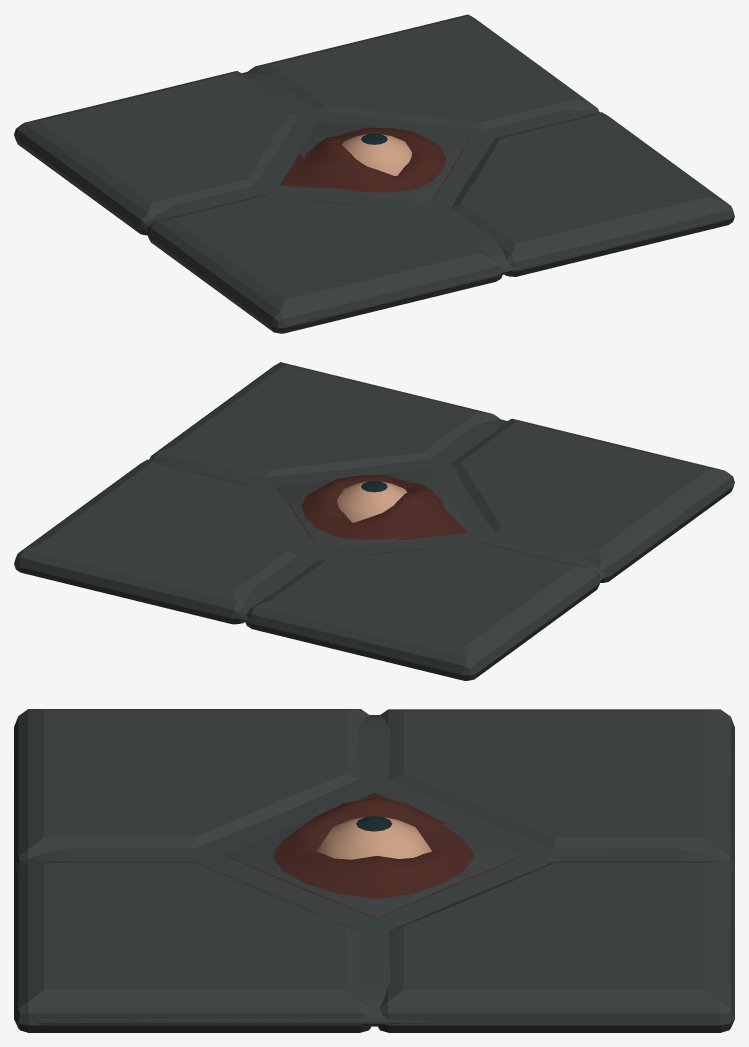
The model's file is MOD_Tiles.fbx.
The picture shows the model from 3 angles, top to bottom: view 1: azimuth 30°, elevation 25°; view 2: azimuth 150°, elevation 25°; view 3: azimuth 270°, elevation 25°; orthographic projection. The views are drawn at different scales.
Visible parts, largest first — view 1: MOD_TilesEye_Base, MOD_TilesStandard, MOD_TilesBig, MOD_TilesEye_Eye; view 2: MOD_TilesEye_Base, MOD_TilesStandard, MOD_TilesBig, MOD_TilesEye_Eye; view 3: MOD_TilesEye_Base, MOD_TilesStandard, MOD_TilesBig, MOD_TilesEye_Eye.
Boxes of the visible parts, bbox=[...] form: MOD_TilesEye_Base: bbox=[25, 14, 734, 333]; MOD_TilesStandard: bbox=[14, 17, 729, 333]; MOD_TilesBig: bbox=[21, 71, 722, 323]; MOD_TilesEye_Eye: bbox=[341, 133, 411, 175]; MOD_TilesEye_Base: bbox=[14, 362, 722, 680]; MOD_TilesStandard: bbox=[19, 365, 734, 680]; MOD_TilesBig: bbox=[149, 419, 608, 671]; MOD_TilesEye_Eye: bbox=[337, 481, 407, 522]; MOD_TilesEye_Base: bbox=[14, 709, 734, 1032]; MOD_TilesStandard: bbox=[14, 709, 734, 1017]; MOD_TilesBig: bbox=[14, 715, 734, 1026]; MOD_TilesEye_Eye: bbox=[316, 816, 431, 859].
Size of the model in its own units: 200 by 37.26 by 200.
